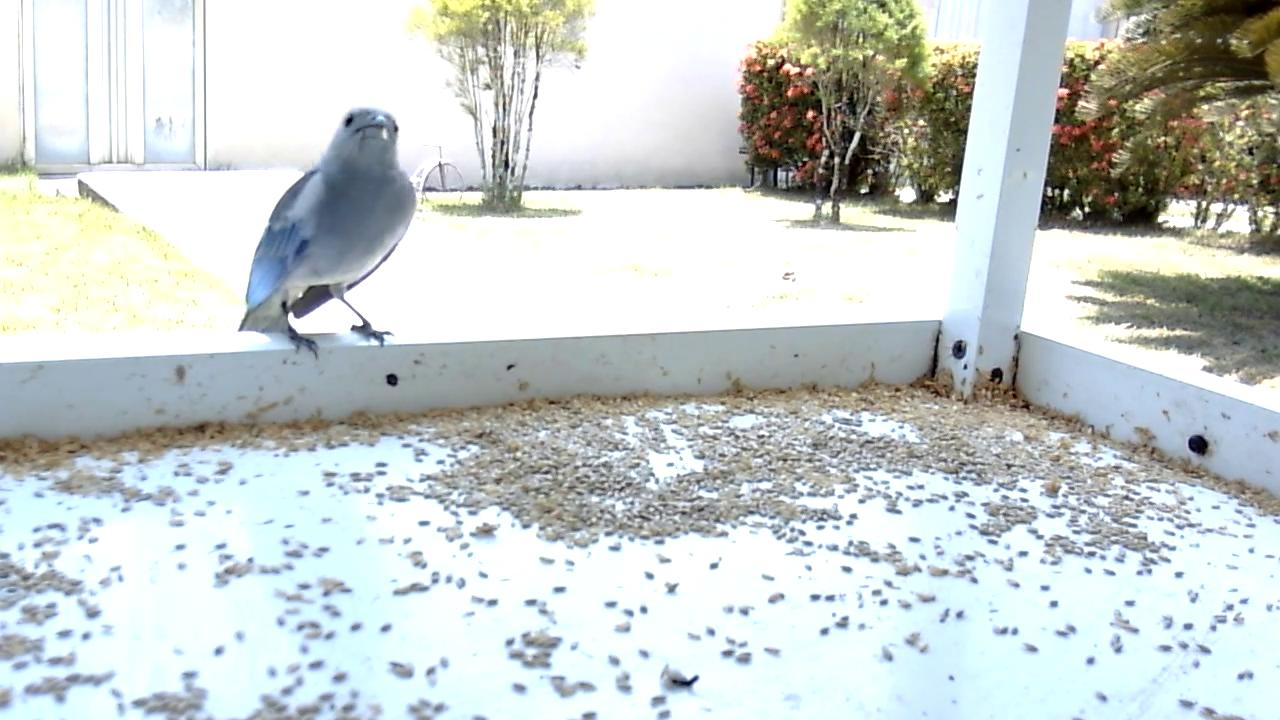sanhaco_da_amazonia: (240, 107, 427, 362)
